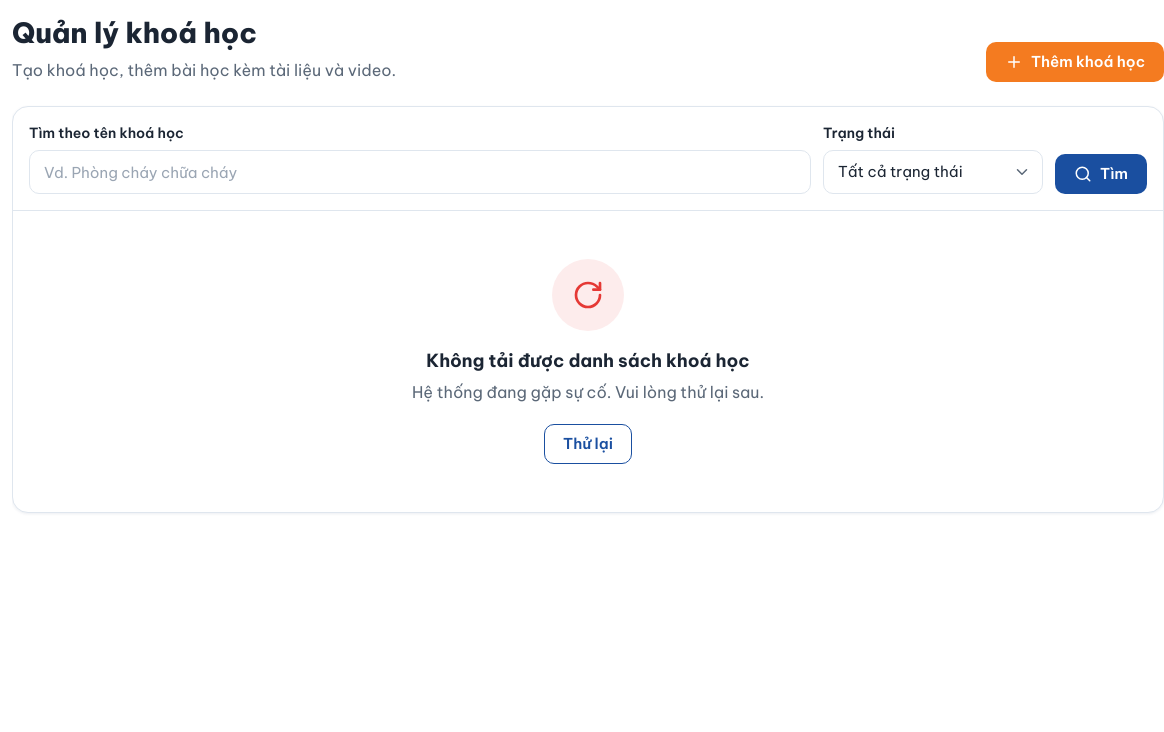
Scenario: CoursesPage › shows an error with a retry button
Expected: the text "Hệ thống đang gặp sự cố. Vui lòng thử lại sau." is shown, [412,380,764,404]
Click the button "Thử lại".
click(588, 444)  # box [544,424,632,464]
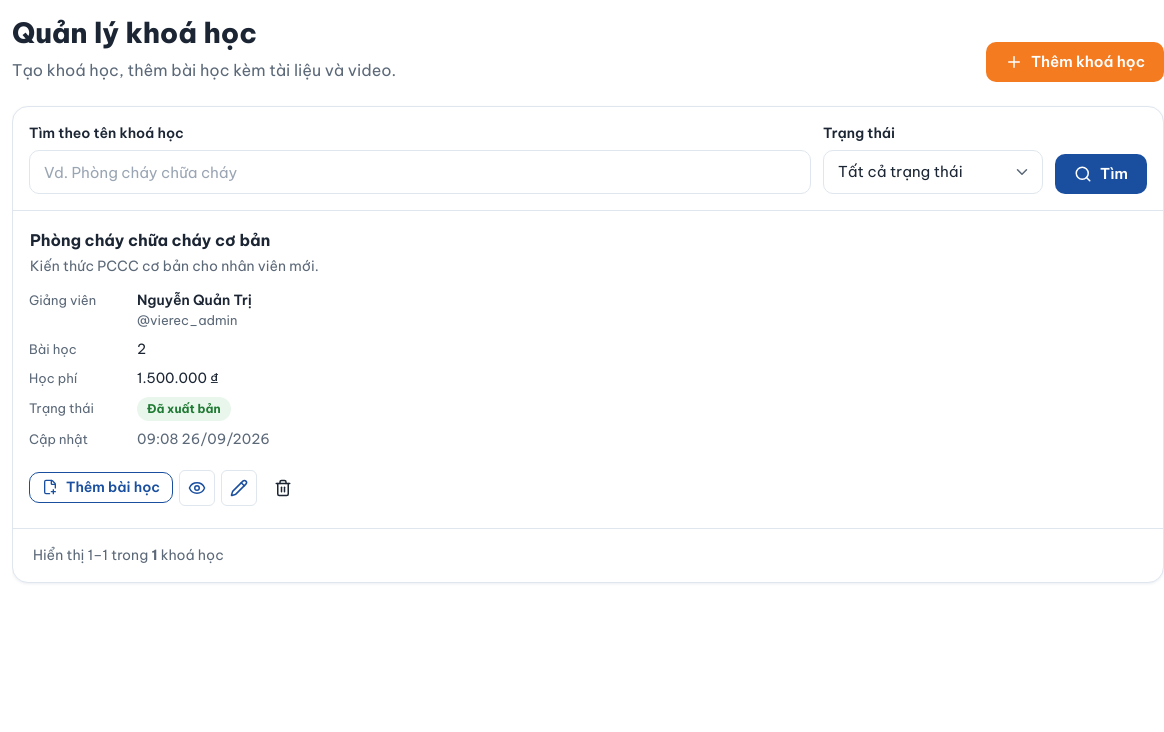
Expected: the link "Phòng cháy chữa cháy cơ bản" is shown, [30,230,270,250]
